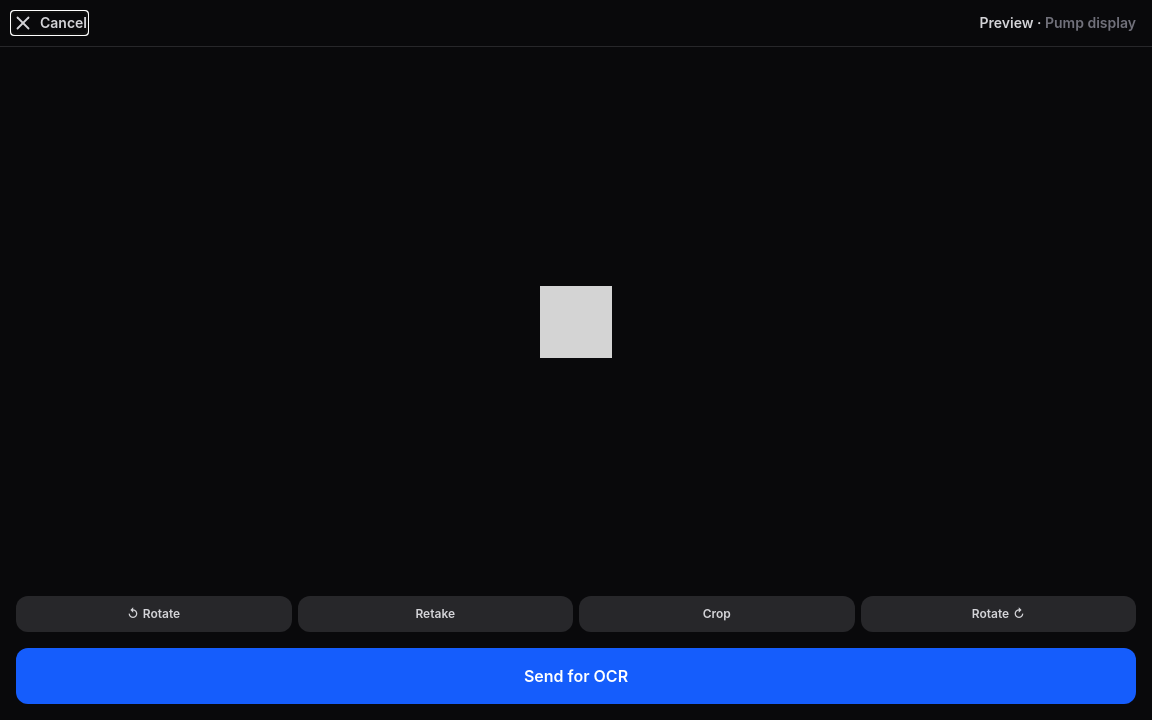
it: OcrPreview — crop mode › tapping [Crop] enters crop mode (rotate buttons + Send-for-OCR hidden, header changes)
Click the button with aria-label "Crop image" at (717,614), box [579,596,854,632]
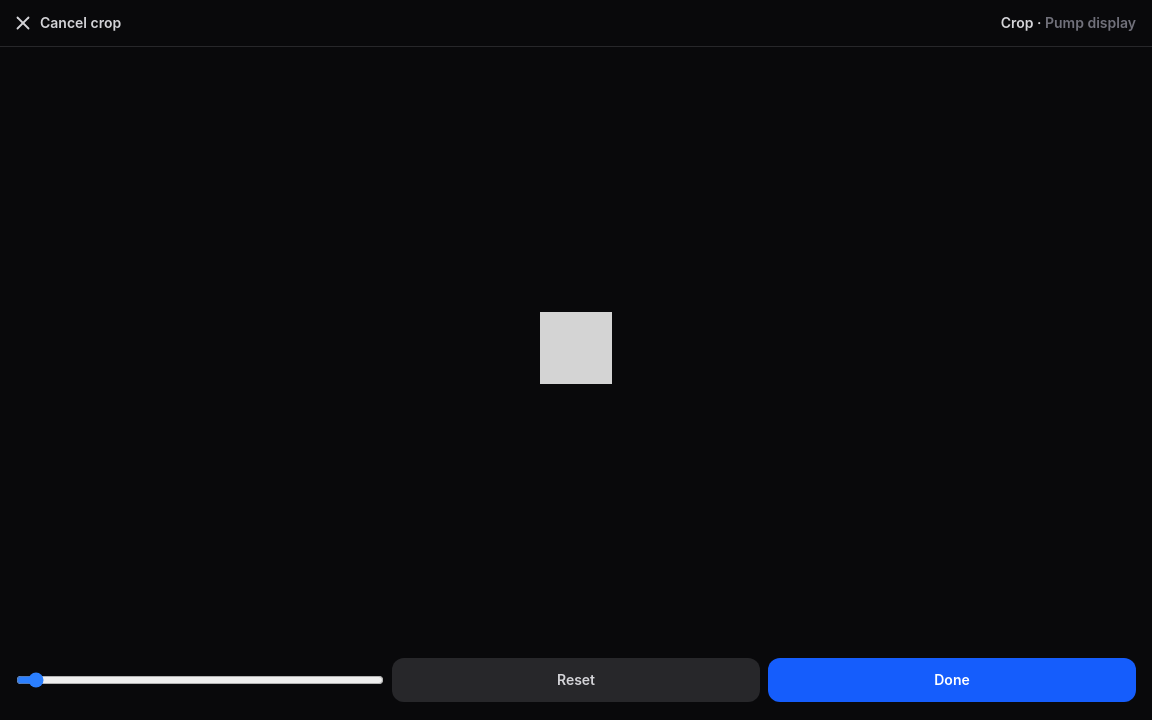
Check: the text "Crop · Pump display" is shown, box [1001,13,1136,33]
Check: the button "Send for OCR" is gone
Check: the button "Cancel crop" is shown, box [12,12,121,34]
